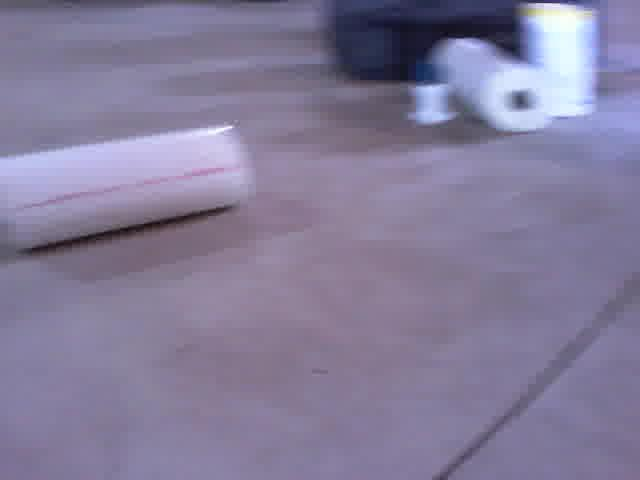coral: (0, 120, 250, 250)
